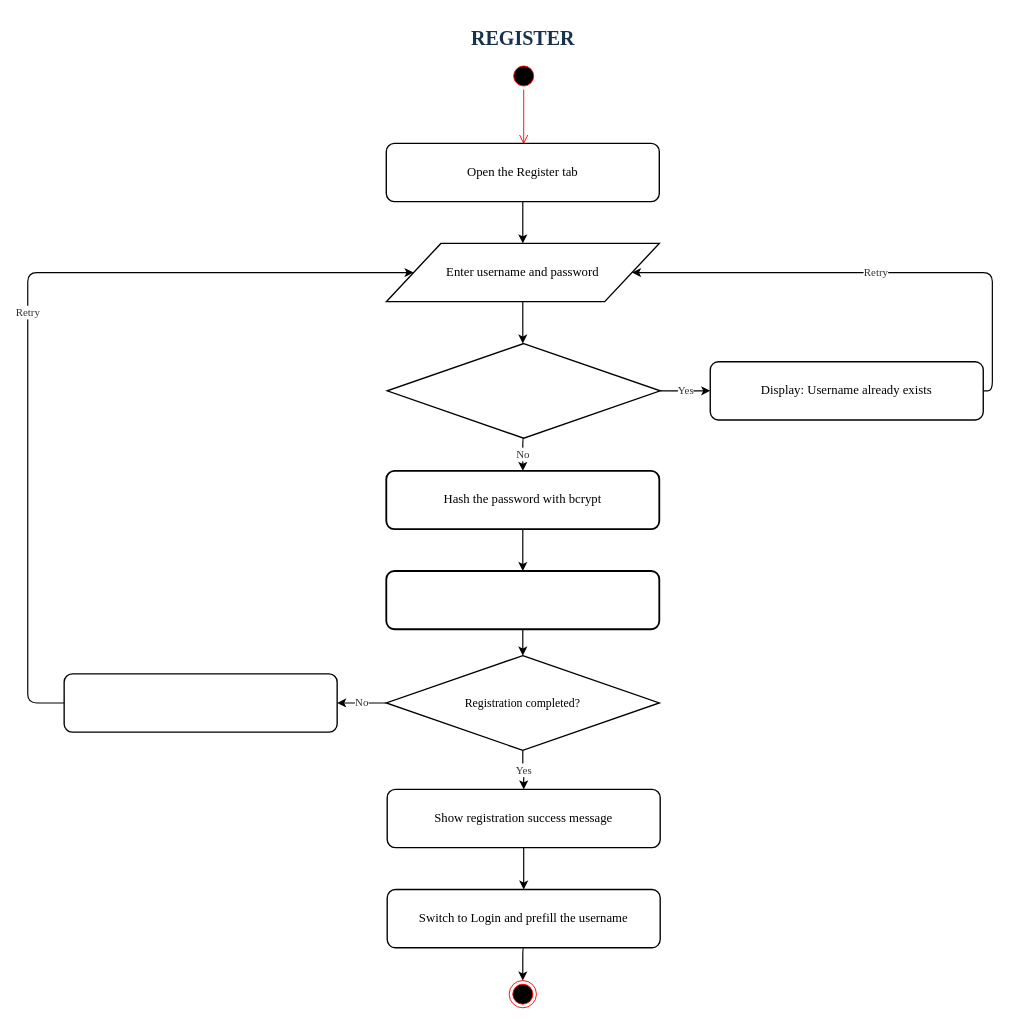
The diagram is 1016 pixels wide and 1024 high, and some of its shapes have lost their labels. The centre of each missing label's shape, as x and y in pixels:
Create the user and commit to PostgreSQL: point 522,600
Display server or network error: point 200,702
Does the username already exist?: point 523,390
